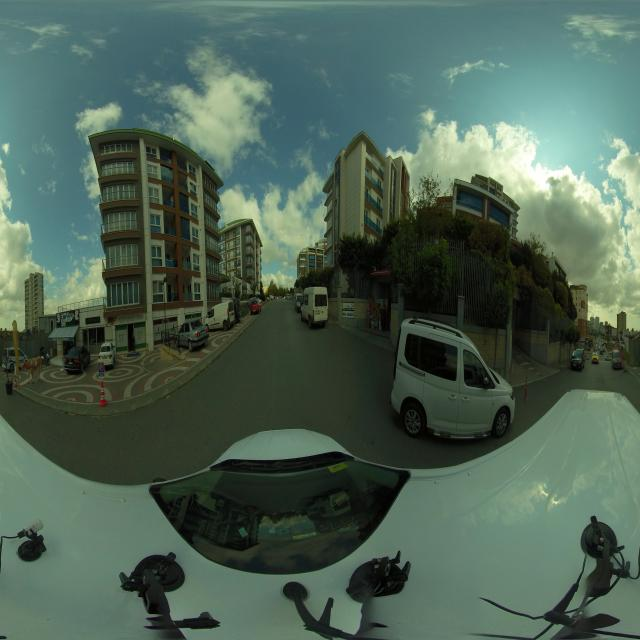SignStore: (56, 309, 79, 327)
